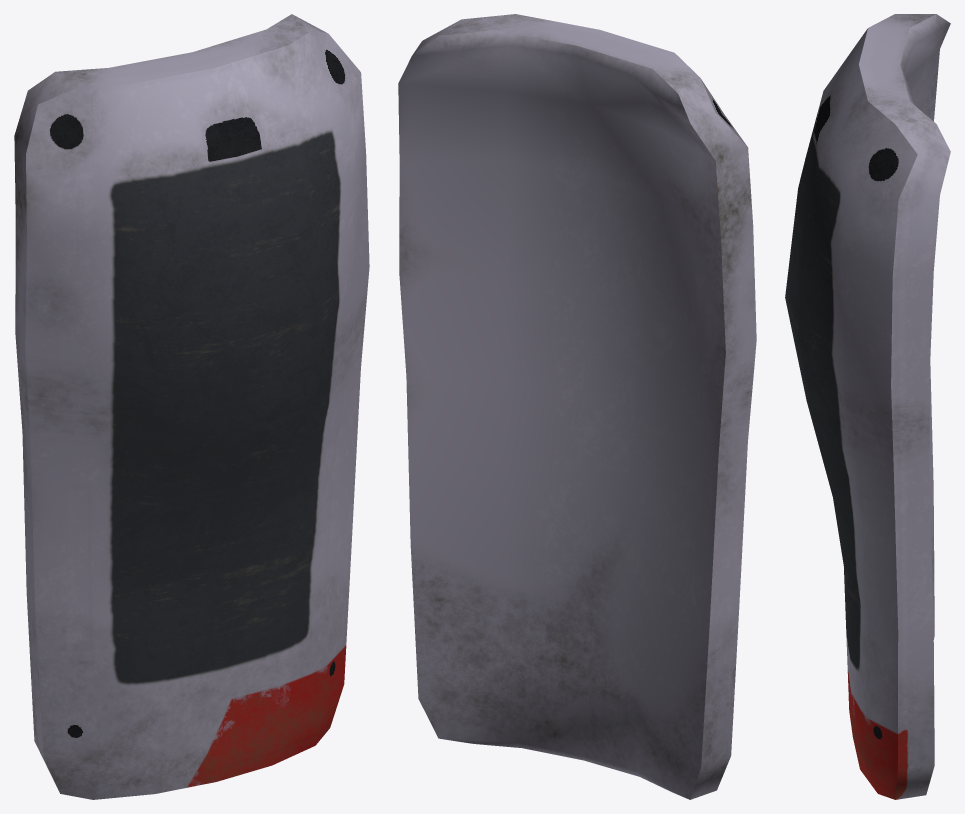
Rendered from sci-fi_armor_part.glb.
3 views of the same model, side by side, from view 1: azimuth 30°, elevation 25°; view 2: azimuth 150°, elevation 25°; view 3: azimuth 270°, elevation 25° (orthographic). The views are drawn at different scales.
Parts seen in each view (by area): view 1: Object_2; view 2: Object_2; view 3: Object_2.
Part boxes in pixels (bbox=[...]): Object_2: bbox=[14, 14, 369, 799]; Object_2: bbox=[398, 14, 756, 799]; Object_2: bbox=[785, 14, 950, 799].
Bounding box in the file's own units: 87.43 × 173 × 38.31.
1 material, 1 textured.
